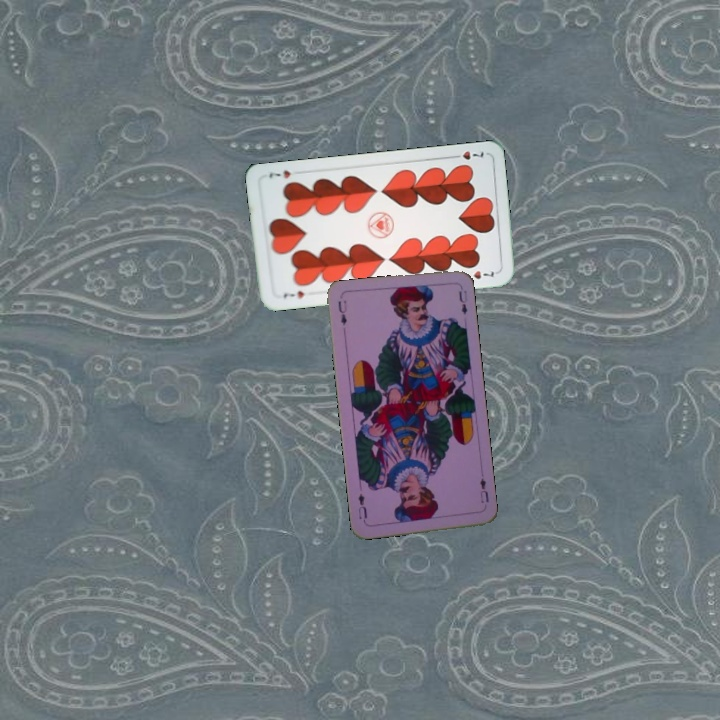EU: (476, 470, 491, 506), (334, 296, 349, 328)
H7: (447, 147, 486, 162), (279, 287, 307, 301)
